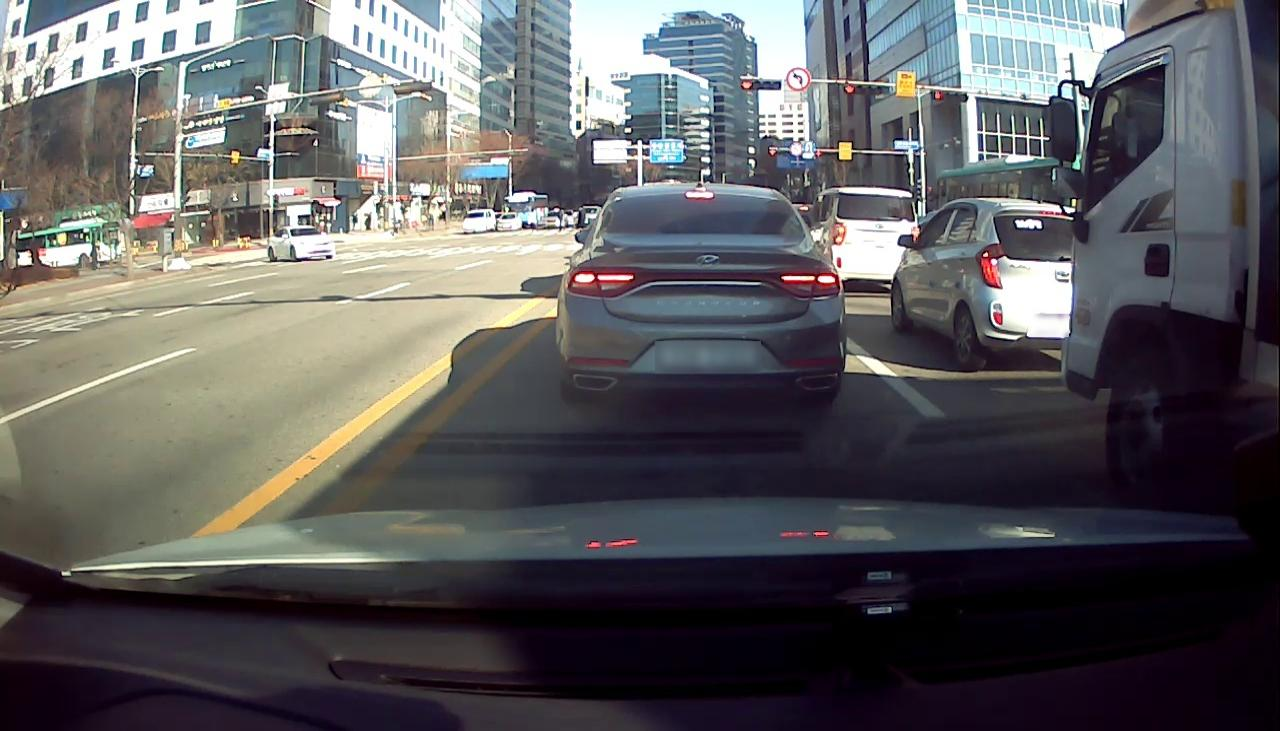Red Light: (844, 83, 855, 95), (741, 79, 752, 90), (934, 89, 944, 101), (768, 149, 776, 156), (816, 150, 822, 157)
